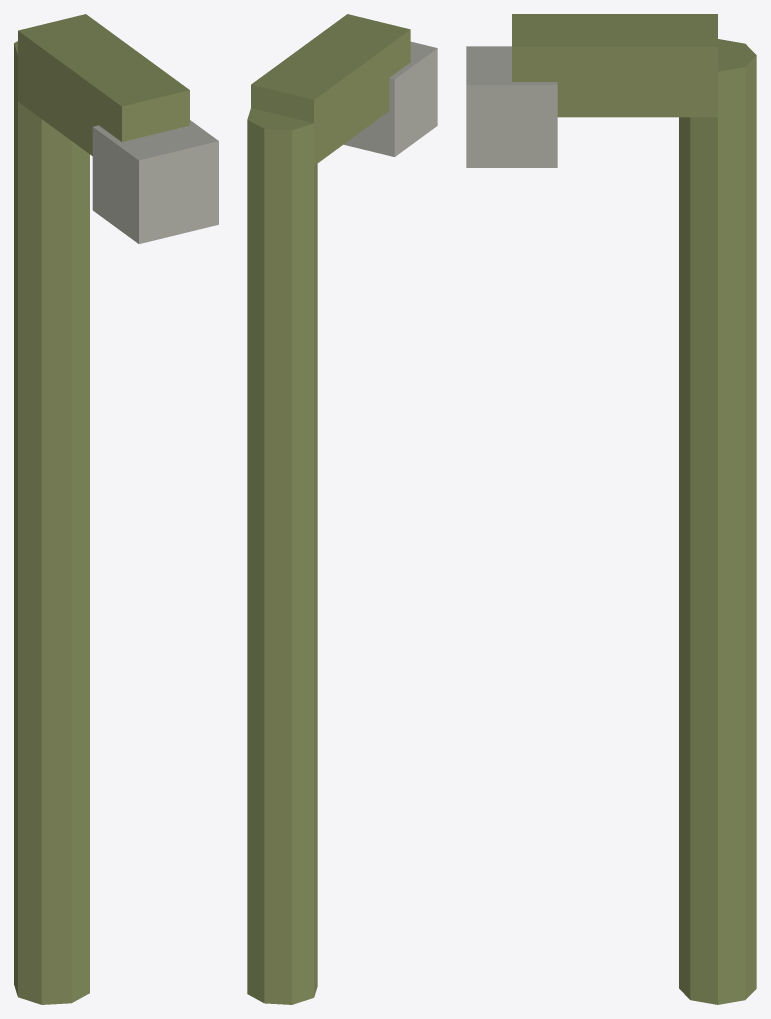
The model's file is SM_KitSueltas_v1_LOD1.fbx.
3 renders of one model, left to right at view 1: azimuth 30°, elevation 25°; view 2: azimuth 150°, elevation 25°; view 3: azimuth 270°, elevation 25°, orthographic. The views are drawn at different scales.
Parts seen in each view (by area): view 1: SM_bloques.kit_sueltas_v1_LOD1; view 2: SM_bloques.kit_sueltas_v1_LOD1; view 3: SM_bloques.kit_sueltas_v1_LOD1.
Part boxes in pixels (x1=…): SM_bloques.kit_sueltas_v1_LOD1: x1=14, y1=14, x2=218, y2=1004; SM_bloques.kit_sueltas_v1_LOD1: x1=247, y1=14, x2=437, y2=1004; SM_bloques.kit_sueltas_v1_LOD1: x1=466, y1=14, x2=756, y2=1004.
Bounding box in the file's own units: 0.4 × 4.62 × 1.27.
